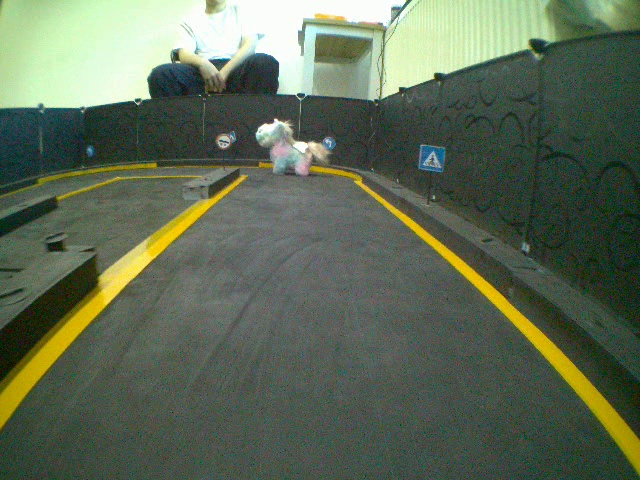unicorn: (254, 116, 335, 181)
